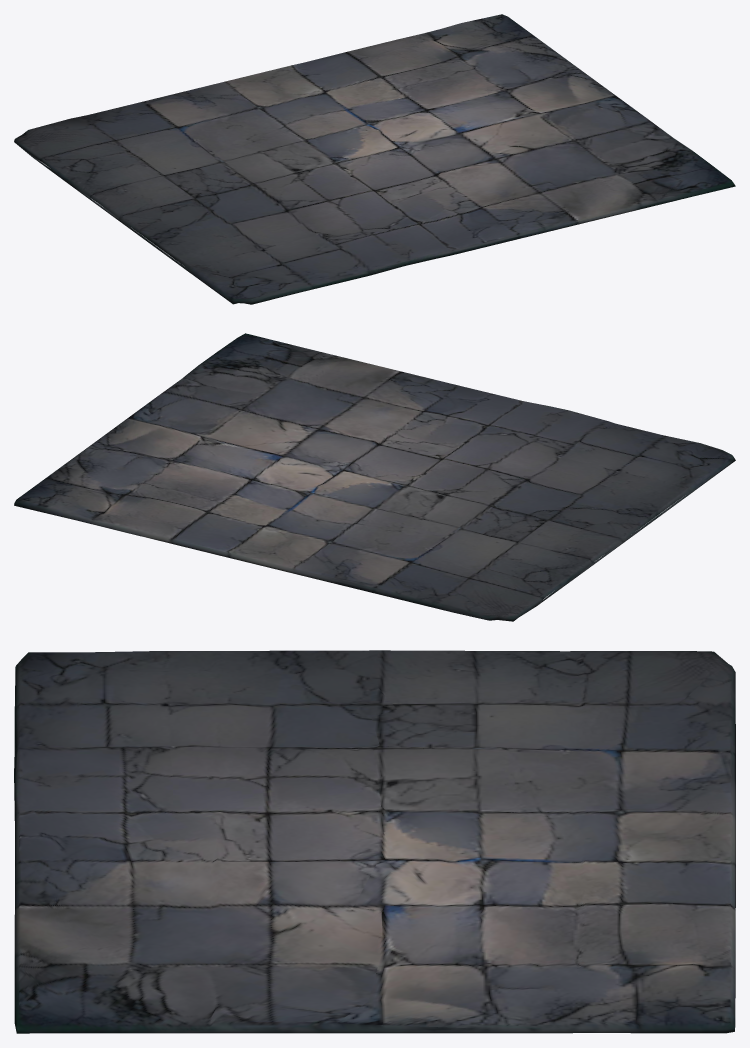
The model's file is Floor.fbx.
3 renders of one model, top to bottom at view 1: azimuth 30°, elevation 25°; view 2: azimuth 150°, elevation 25°; view 3: azimuth 270°, elevation 25°, orthographic. The views are drawn at different scales.
Visible parts, largest first — view 1: meshes[0]; view 2: meshes[0]; view 3: meshes[0].
Boxes of the visible parts, x1=… form: meshes[0]: x1=14, y1=14, x2=735, y2=304; meshes[0]: x1=14, y1=333, x2=735, y2=621; meshes[0]: x1=14, y1=650, x2=735, y2=1033.
Bounding box in the file's own units: 55.96 × 0.7928 × 45.09.
